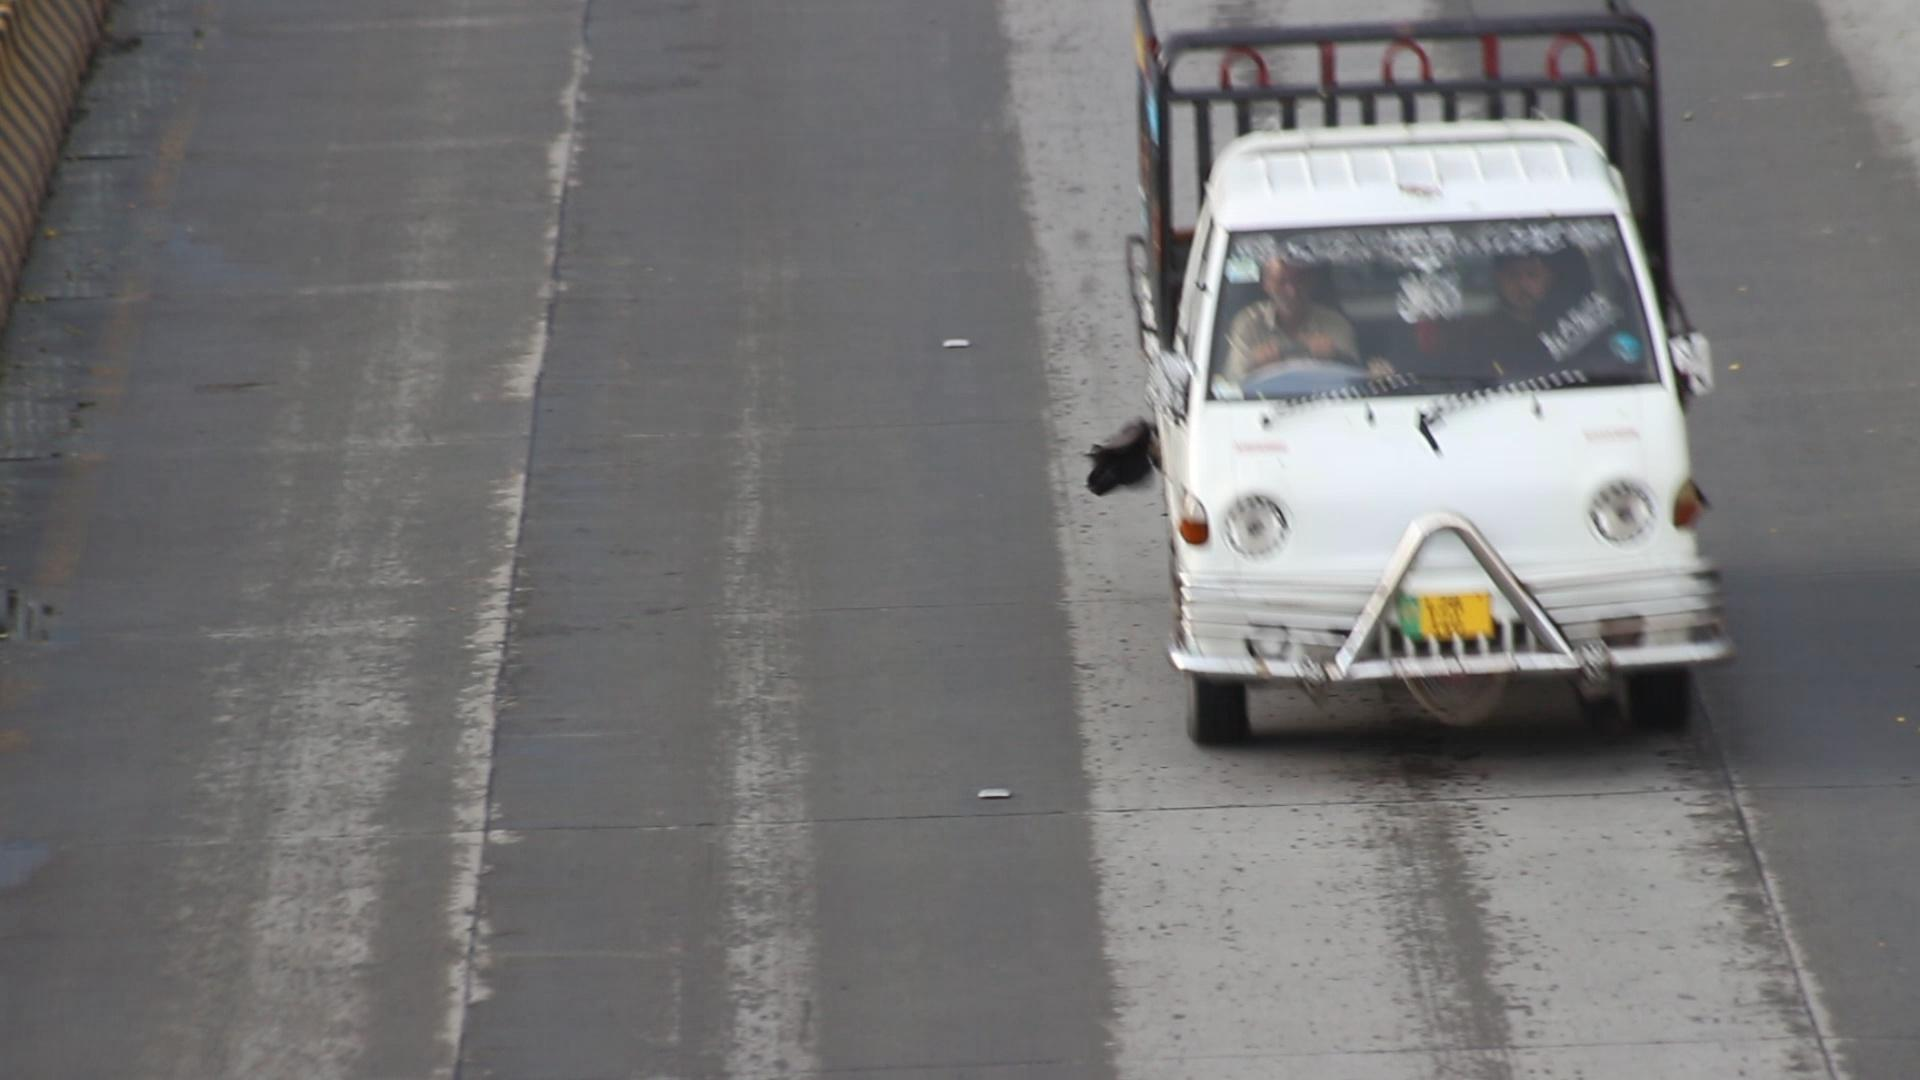windshield: (1204, 196, 1684, 417)
